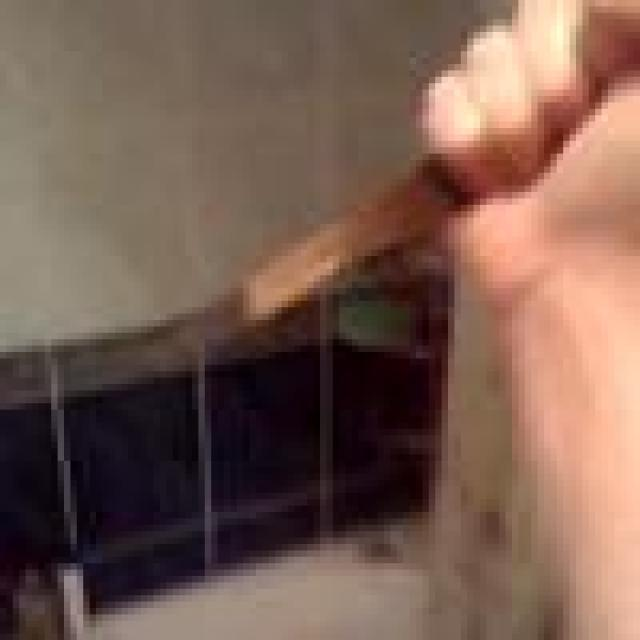knife: (226, 156, 454, 317)
